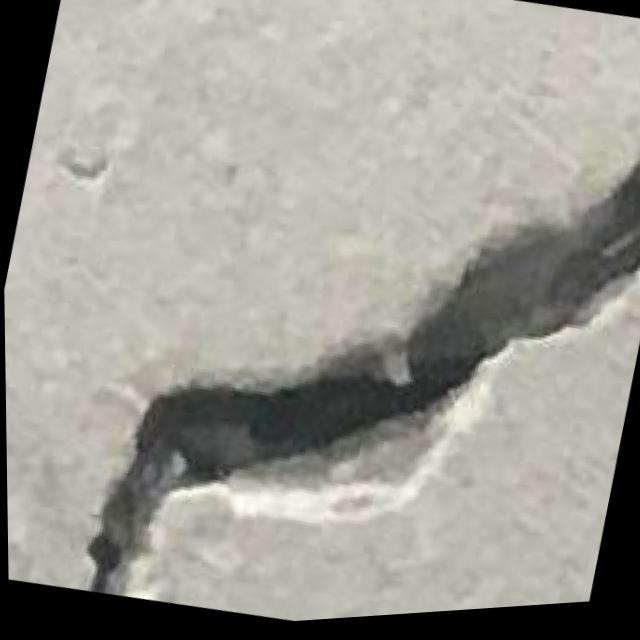Crack: (70, 46, 640, 636)
